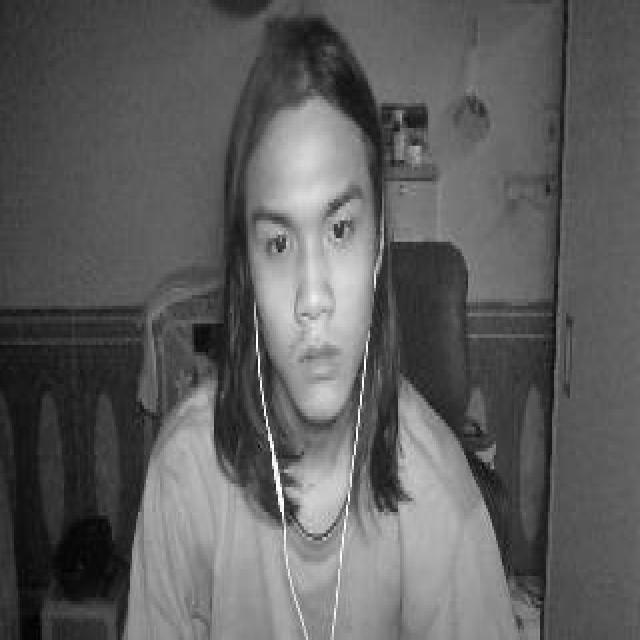Focused: (244, 96, 376, 430)
